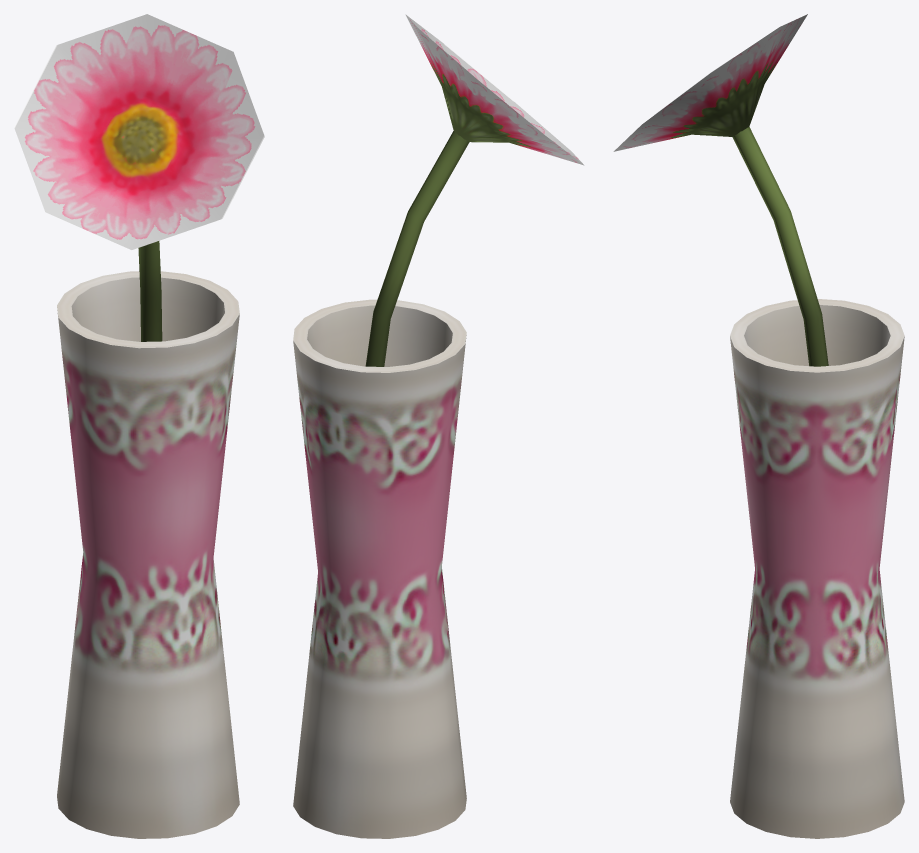
Rendered from GirlyOneVase_HD.fbx.
The picture shows the model from 3 angles, left to right: view 1: azimuth 30°, elevation 25°; view 2: azimuth 150°, elevation 25°; view 3: azimuth 270°, elevation 25°; orthographic projection. The views are drawn at different scales.
Visible parts, largest first — view 1: GirlyOneVase; view 2: GirlyOneVase; view 3: GirlyOneVase.
Part boxes in pixels (box(x1,y1,x2,y2)): GirlyOneVase: box(14, 14, 264, 838); GirlyOneVase: box(293, 14, 584, 838); GirlyOneVase: box(613, 14, 904, 838).
Size of the model in its own units: 0.2407 by 0.7751 by 0.2675.
